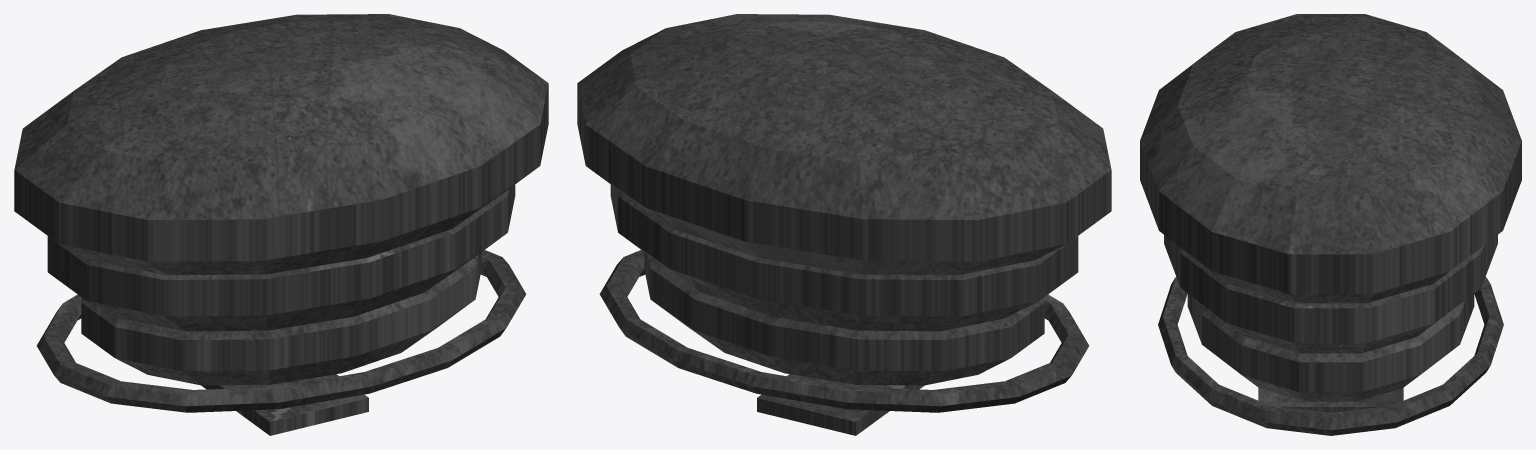
Rendered from pauldron_right.fbx.
3 views of the same model, side by side, from view 1: azimuth 30°, elevation 25°; view 2: azimuth 150°, elevation 25°; view 3: azimuth 270°, elevation 25° (orthographic). The views are drawn at different scales.
Parts seen in each view (by area): view 1: pauldron_right; view 2: pauldron_right; view 3: pauldron_right.
Boxes of the visible parts, x1=… form: pauldron_right: x1=14, y1=14, x2=548, y2=435; pauldron_right: x1=577, y1=14, x2=1111, y2=435; pauldron_right: x1=1140, y1=14, x2=1521, y2=435.
Bounding box in the file's own units: 0.2966 × 0.198 × 0.2106.
Materials: 1 (1 with a texture image).
